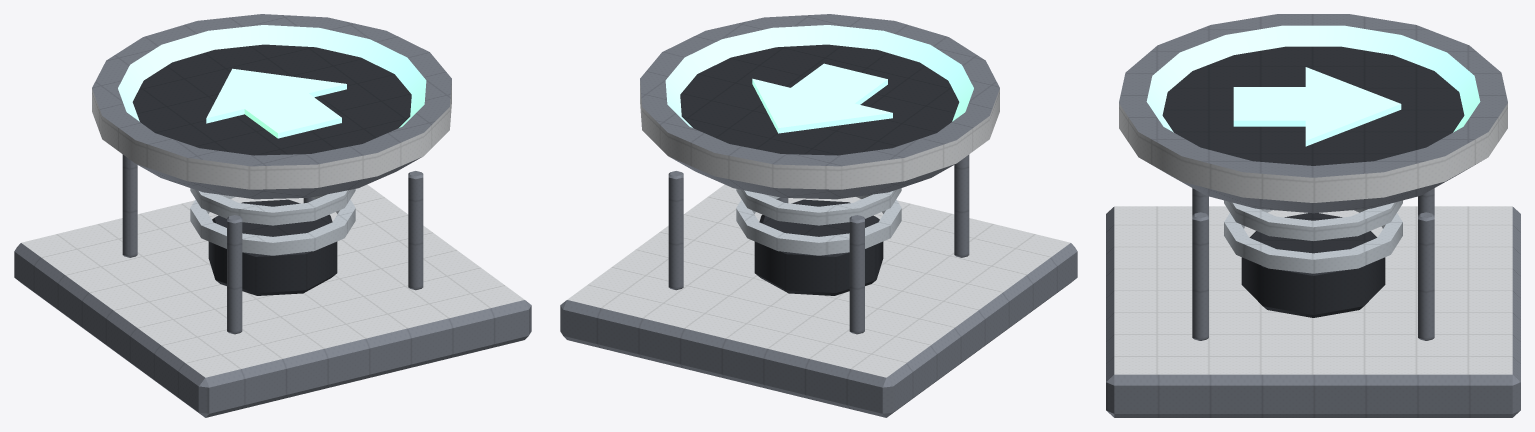
The model's file is R4X_JumpPadDeployer_LOD1.glb.
3 renders of one model, left to right at view 1: azimuth 30°, elevation 25°; view 2: azimuth 150°, elevation 25°; view 3: azimuth 270°, elevation 25°, orthographic. The views are drawn at different scales.
Visible parts, largest first — view 1: R4X_JumpPadDeployer_LOD1; view 2: R4X_JumpPadDeployer_LOD1; view 3: R4X_JumpPadDeployer_LOD1.
Part boxes in pixels (x1,y1,x2,y2): R4X_JumpPadDeployer_LOD1: (14,14,531,417); R4X_JumpPadDeployer_LOD1: (560,14,1077,417); R4X_JumpPadDeployer_LOD1: (1106,14,1520,417).
Bounding box in the file's own units: 0.52 × 0.33 × 0.52.
5 materials, 4 textured.
